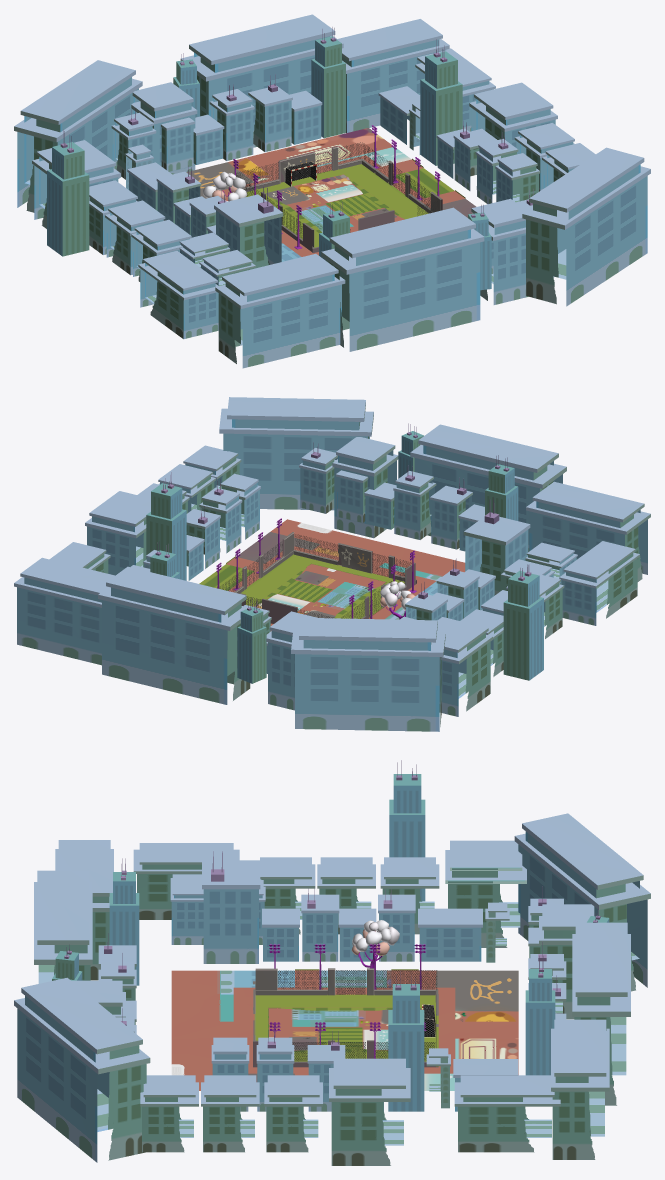
File: stadium.fbx
3 renders of one model, top to bottom at view 1: azimuth 30°, elevation 25°; view 2: azimuth 150°, elevation 25°; view 3: azimuth 270°, elevation 25°, orthographic. The views are drawn at different scales.
Visible parts, largest first — view 1: model_1.008, model_1.007, model_1.010, model_1.002, model_1.011, model_1.005, model_1.009, model_1.006, lines, model_1.004, model_0.003, model_1.001; view 2: model_1.007, model_1.008, model_1.010, model_1.002, model_1.009, model_1.005, model_1.011, model_1.006, lines, model_1.004, model_0.003, model_1.003; view 3: model_1.007, model_1.008, model_1.010, model_1.009, model_1.011, model_1.005, model_1.002, model_1.006, lines, model_1.004, model_0.003, model_10.003 (+1 smaller).
Part boxes in pixels (x1,y1,x2,y2): model_1.008: (215, 147, 650, 368); model_1.007: (14, 14, 495, 212); model_1.010: (32, 130, 255, 339); model_1.002: (378, 39, 539, 203); model_1.011: (125, 144, 283, 268); model_1.005: (186, 128, 476, 261); model_1.009: (469, 82, 595, 191); model_1.006: (236, 142, 442, 252); lines: (265, 174, 404, 232); model_1.004: (246, 164, 428, 247); model_0.003: (203, 171, 247, 201); model_1.001: (285, 161, 316, 186); model_1.007: (14, 541, 445, 731); model_1.008: (219, 397, 650, 581); model_1.010: (437, 541, 639, 716); model_1.002: (130, 472, 260, 580); model_1.009: (85, 445, 241, 575); model_1.005: (199, 519, 465, 631); model_1.011: (400, 497, 530, 620); model_1.006: (218, 532, 416, 623); lines: (253, 564, 385, 618); model_1.004: (241, 554, 404, 623); model_0.003: (380, 581, 415, 619); model_1.003: (253, 563, 386, 618); model_1.007: (454, 813, 650, 1159); model_1.008: (14, 840, 150, 1162); model_1.010: (133, 760, 526, 947); model_1.009: (140, 1058, 410, 1165); model_1.011: (202, 851, 509, 963); model_1.005: (171, 969, 518, 1090); model_1.002: (211, 970, 518, 1111); model_1.006: (253, 968, 438, 1067); lines: (268, 1008, 421, 1050); model_1.004: (254, 994, 438, 1066); model_0.003: (351, 920, 399, 968); model_10.003: (269, 944, 425, 989).
Size of the model in its own units: 1807 by 492 by 1840.
5 materials, 5 textured.
